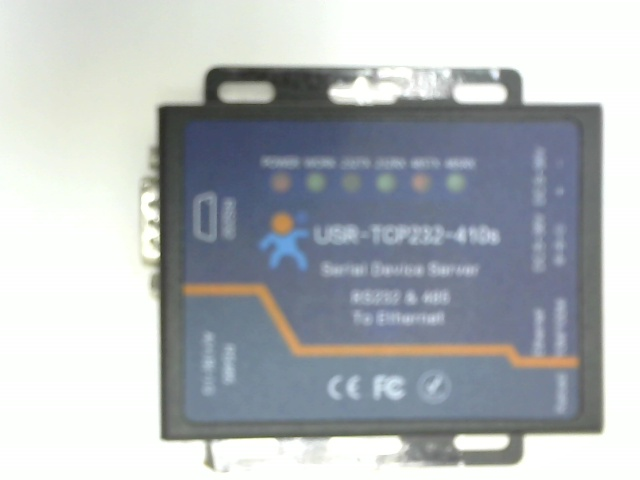modbus bridge: (113, 58, 626, 471)
